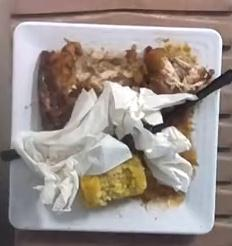chicken: (37, 40, 103, 130), (122, 44, 206, 93)
